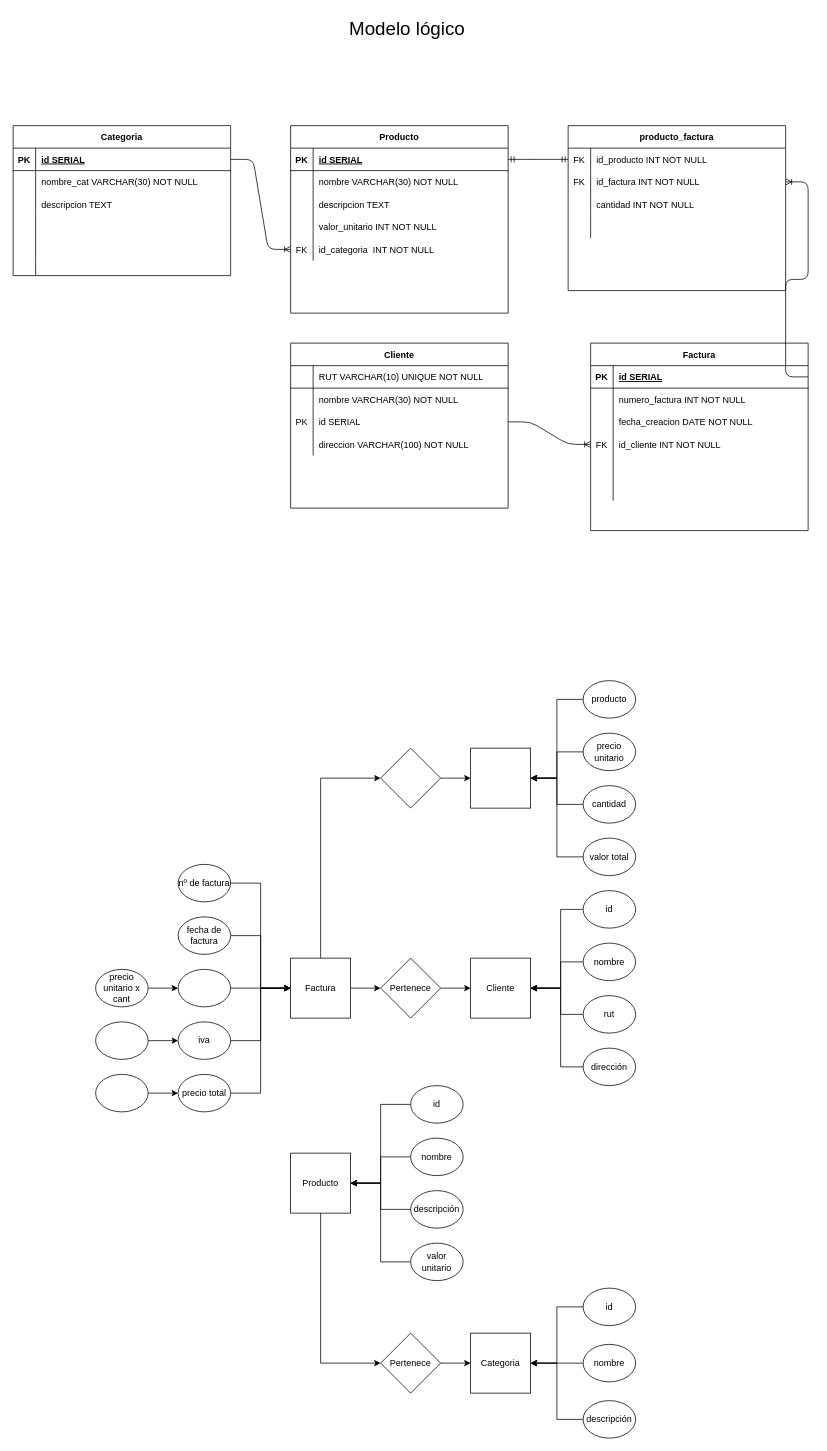
The diagram is 827 pixels wide and 1451 high, and some of its shapes have lost their labels. The shapes that lost their labels are listed below. From the top down, each one's centre as x and y in pixels, then its label:
At point (410, 777): "Tiene".
At point (500, 777): "Lista de productos".
At point (204, 988): "sub total".
At point (121, 1040): "19% de sub total".
At point (121, 1093): "subtotal + iva".
